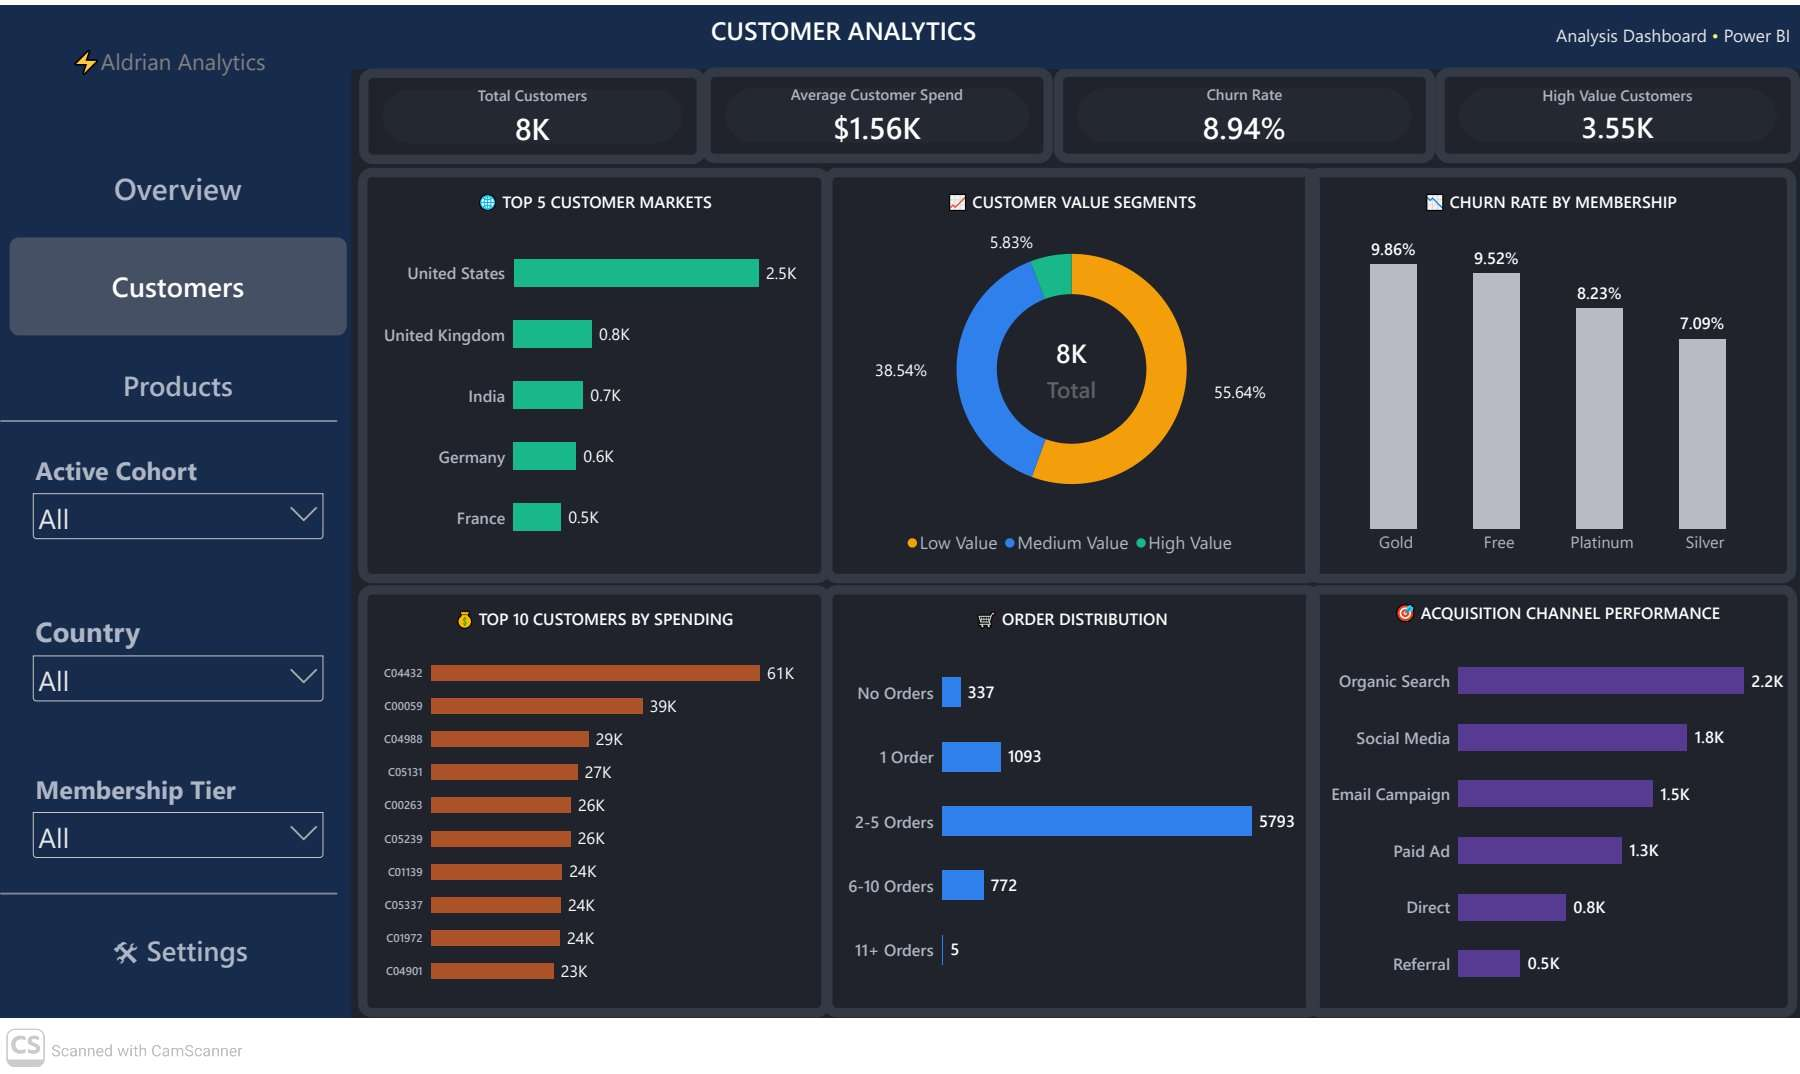

The dashboard page shown, as its layout file describes it:
{"tool":"powerbi","page":{"name":"Customer Analytics","canvas":[1920,1080],"ordinal":1},"visuals":[{"type":"shape","box":[0,0,374,1080],"z":0},{"type":"clusteredColumnChart","title":"📉 CHURN RATE BY MEMBERSHIP","fields":{"Category":["customers_cleaned_dataset csv.membership_tier"],"Y":["customers_cleaned_dataset csv.Churn Rate"]},"box":[1392.3,174.3,524.1,442.6],"z":0,"group":"g1"},{"type":"cardVisual","fields":{"Data":["customers_cleaned_dataset csv.Churn Rate"]},"box":[1123.6,67,407,102.3],"z":1000},{"type":"clusteredBarChart","title":"🎯 ACQUISITION CHANNEL PERFORMANCE","fields":{"Category":["customers_cleaned_dataset csv.acquisition_channel"],"Y":["customers_cleaned_dataset csv.Total Customers"]},"box":[1392.9,619,524.1,461],"z":1000,"group":"g1"},{"type":"textbox","box":[375,0,1050,67.5],"z":2000},{"type":"clusteredBarChart","title":"🛒 ORDER DISTRIBUTION","fields":{"Category":["customers_cleaned_dataset csv.Order Frequency Group"],"Y":["customers_cleaned_dataset csv.Total Customers"]},"box":[877.7,619,530.1,461],"z":2000,"group":"g1"},{"type":"textbox","box":[0,24,360,120],"z":3000},{"type":"clusteredBarChart","title":"🌐 TOP 5 CUSTOMER MARKETS","fields":{"Category":["customers_cleaned_dataset csv.country"],"Y":["customers_cleaned_dataset csv.Total Customers"]},"box":[382,174.3,504.2,442.6],"z":3000,"group":"g1"},{"type":"actionButton","box":[10,247.5,360,105],"z":4000},{"type":"clusteredBarChart","title":"💰 TOP 10 CUSTOMERS BY SPENDING","fields":{"Category":["customers_cleaned_dataset csv.customer_id"],"Y":["Sum(customers_cleaned_dataset csv.total_spend_usd)"]},"box":[382,619,504.2,461],"z":4000,"group":"g1"},{"type":"donutChart","title":"📈 CUSTOMER VALUE SEGMENTS","fields":{"Category":["customers_cleaned_dataset csv.Customer Value Segment"],"Y":["customers_cleaned_dataset csv.Total Customers"]},"box":[878.2,174.3,530.1,442.6],"z":5000,"group":"g1"},{"type":"actionButton","box":[10,352.5,360,105],"z":5000},{"type":"actionButton","box":[0,936,384,144],"z":6000},{"type":"actionButton","box":[10,142.5,360,105],"z":7000},{"type":"textbox","box":[1425,0,495,67.5],"z":8000},{"type":"cardVisual","fields":{"Data":["customers_cleaned_dataset csv.High Value Customers"]},"box":[1531.2,67.3,389,102],"z":9000},{"type":"cardVisual","fields":{"Data":["customers_cleaned_dataset csv.Average Customer Spend"]},"box":[748.2,67.3,375.4,102],"z":10000},{"type":"cardVisual","fields":{"Data":["customers_cleaned_dataset csv.Total Customers"]},"box":[382.5,67.5,370,102],"z":11000},{"type":"slicer","fields":{"Values":["customers_cleaned_dataset csv.registration_date.Variation.Date Hierarchy.Year","customers_cleaned_dataset csv.registration_date.Variation.Date Hierarchy.Quarter","customers_cleaned_dataset csv.registration_date.Variation.Date Hierarchy.Month","customers_cleaned_dataset csv.registration_date.Variation.Date Hierarchy.Day"]},"box":[10,457.5,360,170],"z":12000},{"type":"slicer","fields":{"Values":["customers_cleaned_dataset csv.country"]},"box":[10,627.5,360,170],"z":13000},{"type":"slicer","fields":{"Values":["customers_cleaned_dataset csv.membership_tier"]},"box":[10,797.5,360,150],"z":14000},{"type":"group","id":"g1","title":"Group 1","box":[382,174.3,1535,905.7],"z":15000},{"type":"shape","box":[0,432,360,24],"z":16000},{"type":"shape","box":[0,936,360,24],"z":17000}]}

Visuals, with their boxes on the page's 1920x1080 design canvas (x1, y1, x2, y2). These are canvas units, not pixel positions in the 1800x1074 screenshot, which may show the page scaled, cropped or inside an application window:
shape: bbox(0, 0, 374, 1080)
"📉 CHURN RATE BY MEMBERSHIP" clusteredColumnChart: bbox(1392, 174, 1916, 617)
cardVisual - customers_cleaned_dataset csv.Churn Rate: bbox(1124, 67, 1531, 169)
"🎯 ACQUISITION CHANNEL PERFORMANCE" clusteredBarChart: bbox(1393, 619, 1917, 1080)
textbox: bbox(375, 0, 1425, 68)
"🛒 ORDER DISTRIBUTION" clusteredBarChart: bbox(878, 619, 1408, 1080)
textbox: bbox(0, 24, 360, 144)
"🌐 TOP 5 CUSTOMER MARKETS" clusteredBarChart: bbox(382, 174, 886, 617)
actionButton: bbox(10, 248, 370, 352)
"💰 TOP 10 CUSTOMERS BY SPENDING" clusteredBarChart: bbox(382, 619, 886, 1080)
"📈 CUSTOMER VALUE SEGMENTS" donutChart: bbox(878, 174, 1408, 617)
actionButton: bbox(10, 352, 370, 458)
actionButton: bbox(0, 936, 384, 1080)
actionButton: bbox(10, 142, 370, 248)
textbox: bbox(1425, 0, 1920, 68)
cardVisual - customers_cleaned_dataset csv.High Value Customers: bbox(1531, 67, 1920, 169)
cardVisual - customers_cleaned_dataset csv.Average Customer Spend: bbox(748, 67, 1124, 169)
cardVisual - customers_cleaned_dataset csv.Total Customers: bbox(382, 68, 752, 170)
slicer - customers_cleaned_dataset csv.registration_date.Variation.Date Hierarchy.Year x customers_cleaned_dataset csv.registration_date.Variation.Date Hierarchy.Quarter: bbox(10, 458, 370, 628)
slicer - customers_cleaned_dataset csv.country: bbox(10, 628, 370, 798)
slicer - customers_cleaned_dataset csv.membership_tier: bbox(10, 798, 370, 948)
"Group 1" group: bbox(382, 174, 1917, 1080)
shape: bbox(0, 432, 360, 456)
shape: bbox(0, 936, 360, 960)
